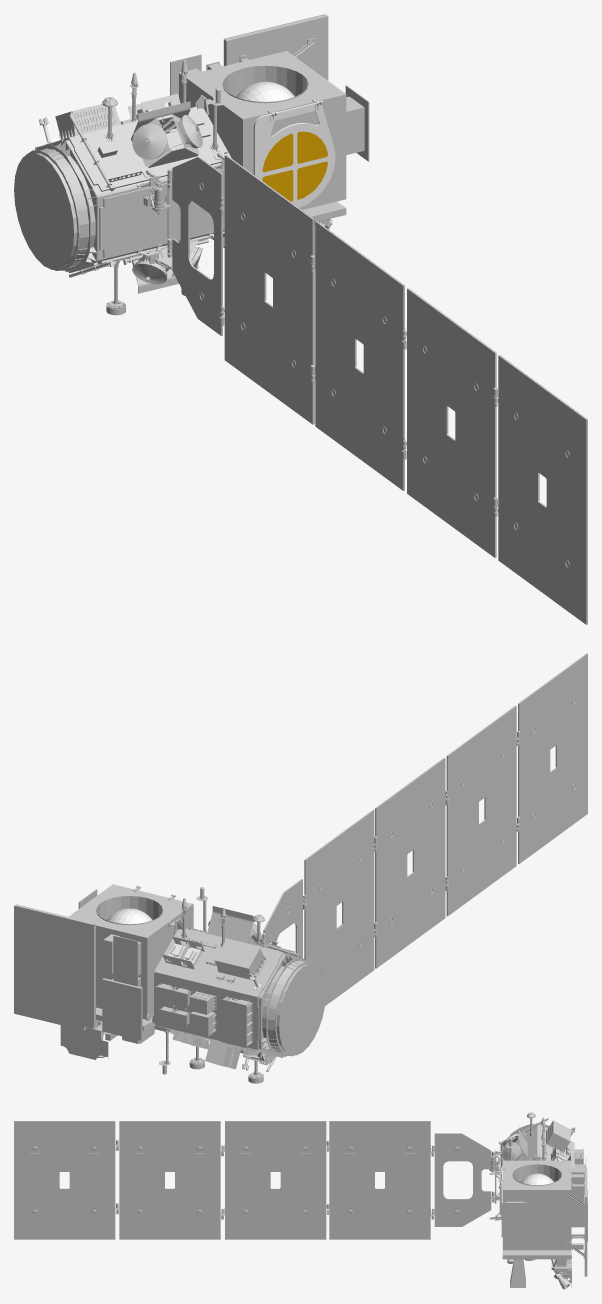
Rendered from icesat-2.glb.
The picture shows the model from 3 angles, top to bottom: view 1: azimuth 30°, elevation 25°; view 2: azimuth 150°, elevation 25°; view 3: azimuth 270°, elevation 25°; orthographic projection. The views are drawn at different scales.
Parts seen in each view (by area): view 1: SA Panels, 1553 Couplers, Bus Structure@sRPYy{DROP}-1000_0_1000p0_0_1, Door Hinge-2@P-270_0_1p, Propulsion module; view 2: SA Panels, 1553 Couplers, Bus Structure@sRPYy{DROP}-1000_0_1000p0_0_1, Bus Panels-1, Bus Panels-2, Course Sun Sensors; view 3: 1553 Couplers, Bus Structure@sRPYy{DROP}-1000_0_1000p0_0_1, SA Panels, Bus Panels-1, Propulsion module.
Part boxes in pixels (x1=…): SA Panels: x1=69, y1=101, x2=587, y2=624; 1553 Couplers: x1=14, y1=14, x2=574, y2=516; Bus Structure@sRPYy{DROP}-1000_0_1000p0_0_1: x1=36, y1=51, x2=346, y2=335; Door Hinge-2@P-270_0_1p: x1=253, y1=100, x2=335, y2=207; Propulsion module: x1=236, y1=81, x2=294, y2=101; SA Panels: x1=172, y1=653, x2=587, y2=1071; 1553 Couplers: x1=14, y1=703, x2=556, y2=1083; Bus Structure@sRPYy{DROP}-1000_0_1000p0_0_1: x1=68, y1=879, x2=304, y2=1065; Bus Panels-1: x1=157, y1=930, x2=281, y2=1057; Bus Panels-2: x1=154, y1=976, x2=259, y2=1046; Course Sun Sensors: x1=167, y1=942, x2=261, y2=1063; 1553 Couplers: x1=14, y1=1112, x2=587, y2=1289; Bus Structure@sRPYy{DROP}-1000_0_1000p0_0_1: x1=434, y1=1120, x2=583, y2=1259; SA Panels: x1=14, y1=1118, x2=548, y2=1216; Bus Panels-1: x1=539, y1=1124, x2=571, y2=1167; Propulsion module: x1=520, y1=1173, x2=553, y2=1184.
Size of the model in its own units: 3.8 by 2.48 by 10.06.
